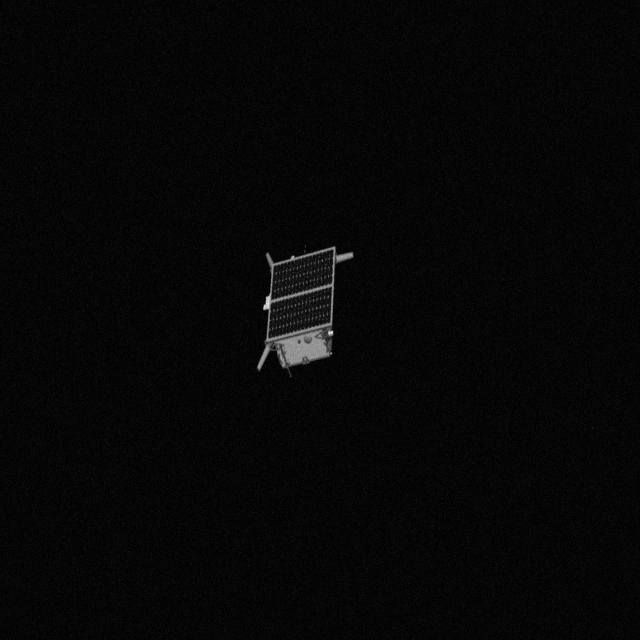satellite: (256, 244, 358, 386)
